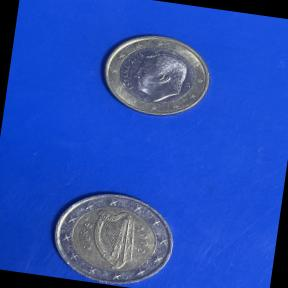1 Euro-B: (89, 23, 218, 130)
2 Euro-B: (36, 179, 183, 288)
